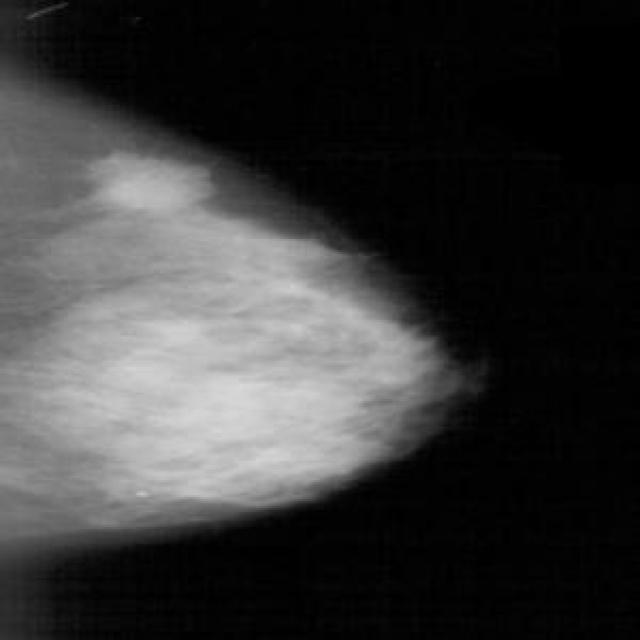tumor: (85, 276, 346, 492), (60, 147, 234, 228)
